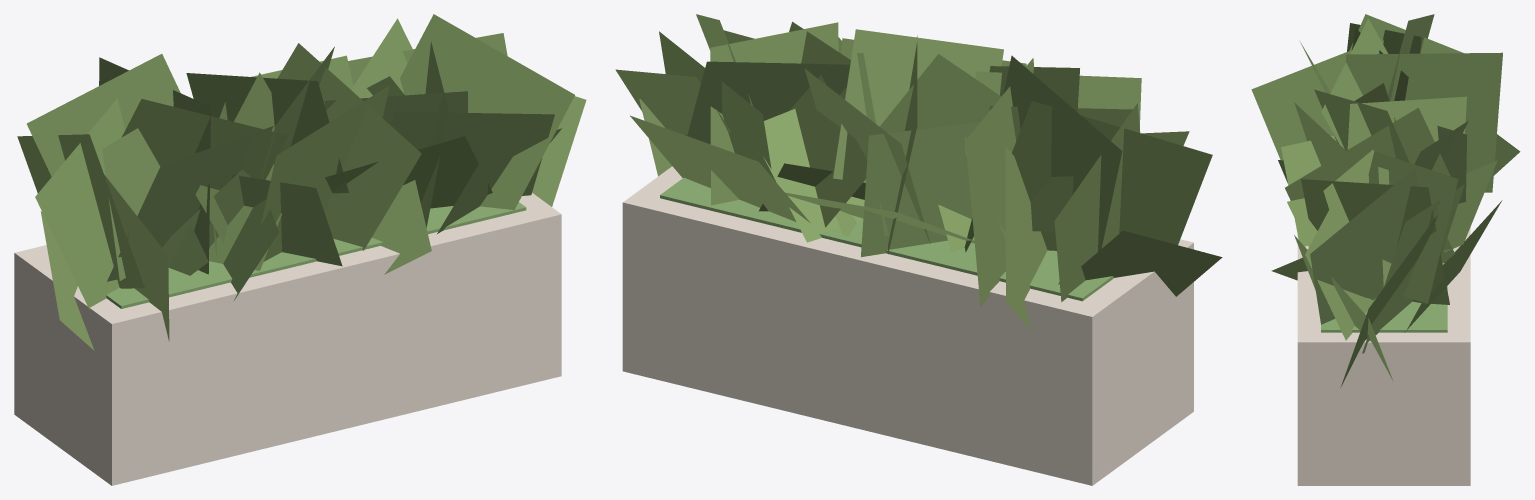
File: Planter_Box.fbx
The picture shows the model from 3 angles, left to right: view 1: azimuth 30°, elevation 25°; view 2: azimuth 150°, elevation 25°; view 3: azimuth 270°, elevation 25°; orthographic projection. The views are drawn at different scales.
Parts seen in each view (by area): view 1: Planter_Box; view 2: Planter_Box; view 3: Planter_Box.
Boxes of the visible parts, <box> form: Planter_Box: <box>14,14,586,485</box>; Planter_Box: <box>615,14,1222,485</box>; Planter_Box: <box>1251,14,1520,485</box>.
Bounding box in the file's own units: 2 × 1.22 × 0.9337.
